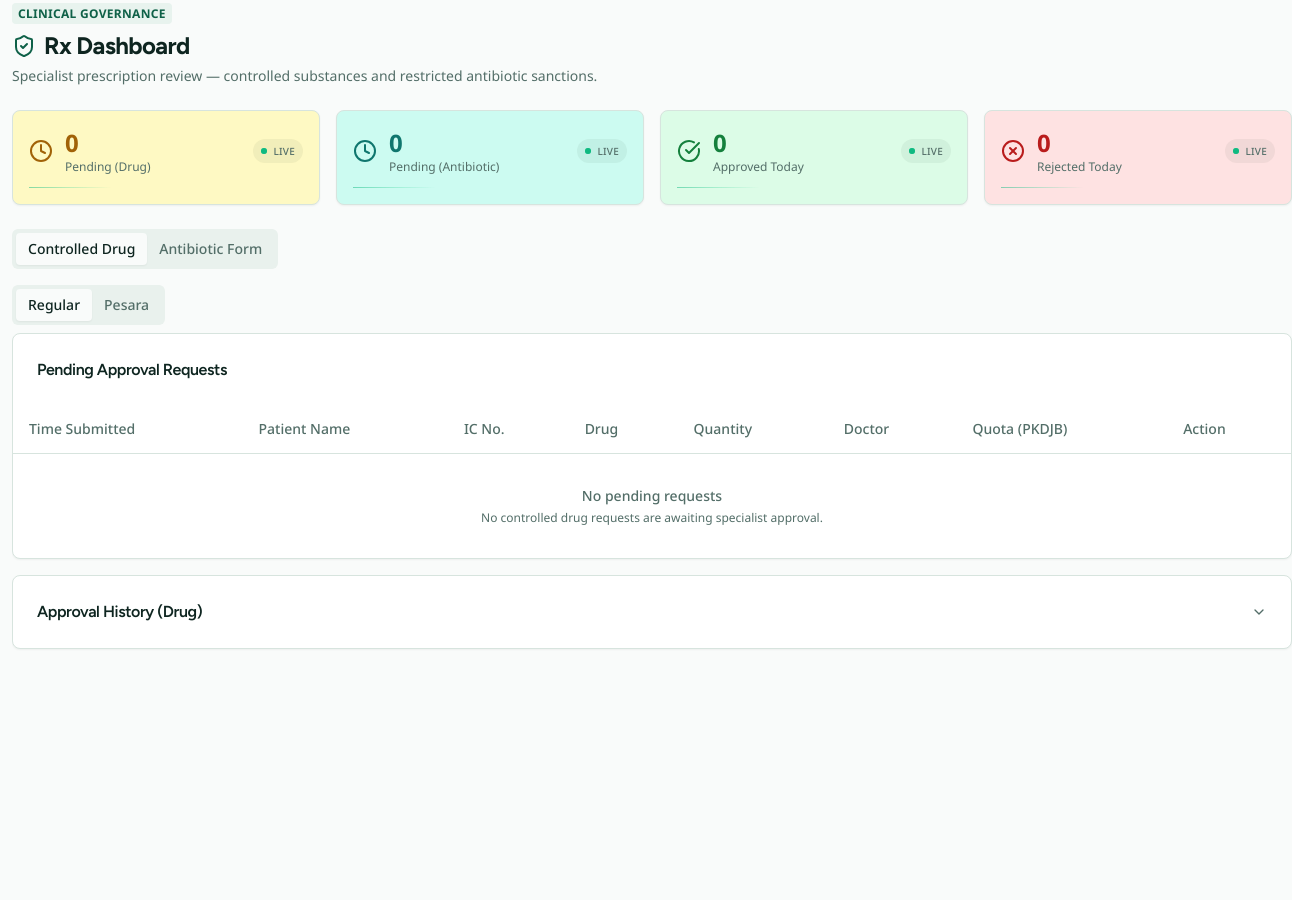
Test: SpecialistDashboard › reveals the Regular vs Pesara breakdown when hovering the Pending (Drug) stat card
Step 1. Hover over the element with test id "stat-card-Pending (Drug)" → (166, 157), box [12,110,320,205]
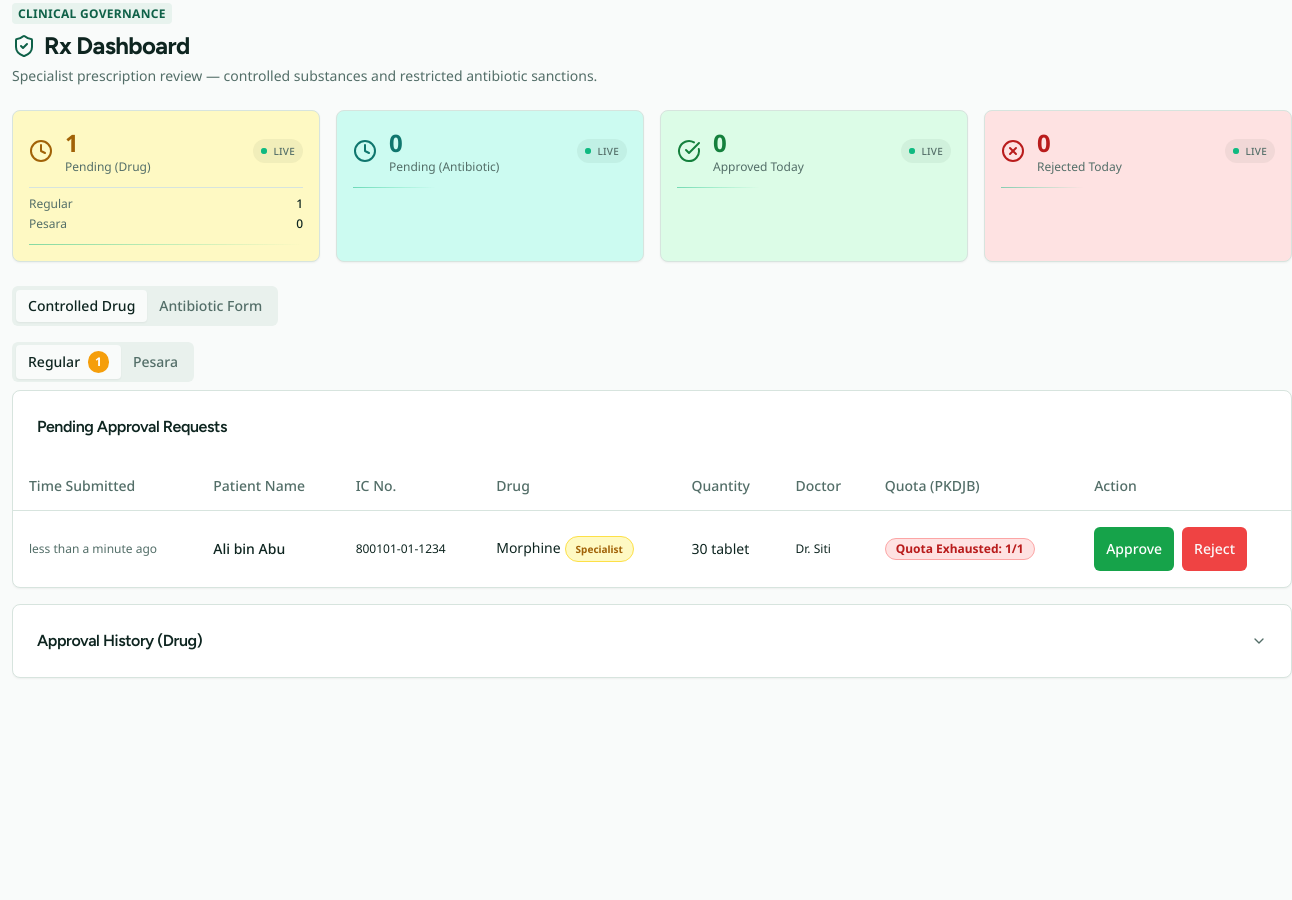
Expected: the text "Regular" is shown, [29,196,73,212]
Expected: the text "Pesara" is shown, [29,216,67,232]
